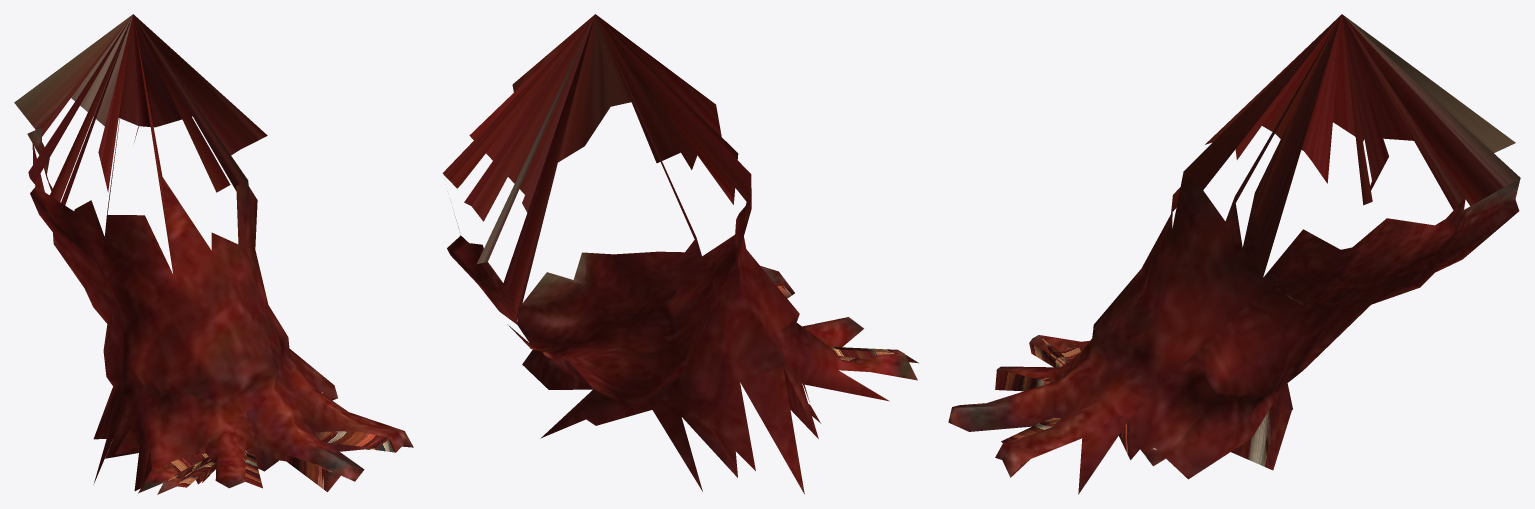
File: dragon_leg_fnegx.glb
3 renders of one model, left to right at view 1: azimuth 30°, elevation 25°; view 2: azimuth 150°, elevation 25°; view 3: azimuth 270°, elevation 25°, orthographic. The views are drawn at different scales.
Bounding box in the file's own units: 2.53 × 3.78 × 4.43.
Materials: 1 (1 with a texture image).
